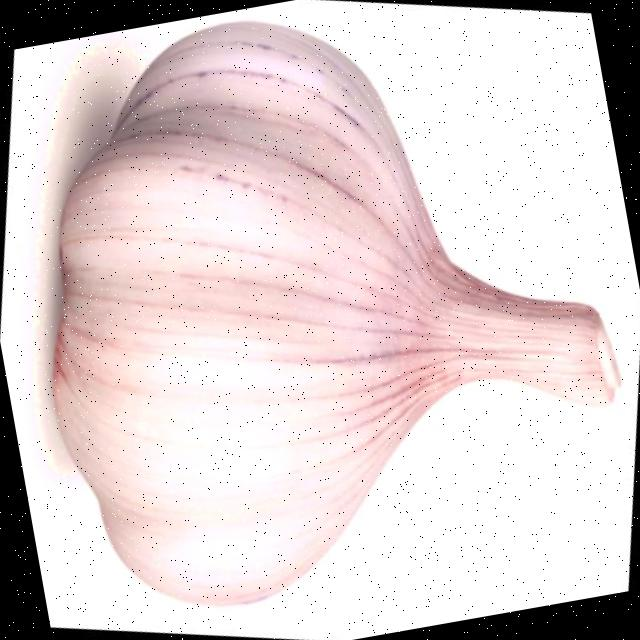garlic: (53, 22, 618, 603)
